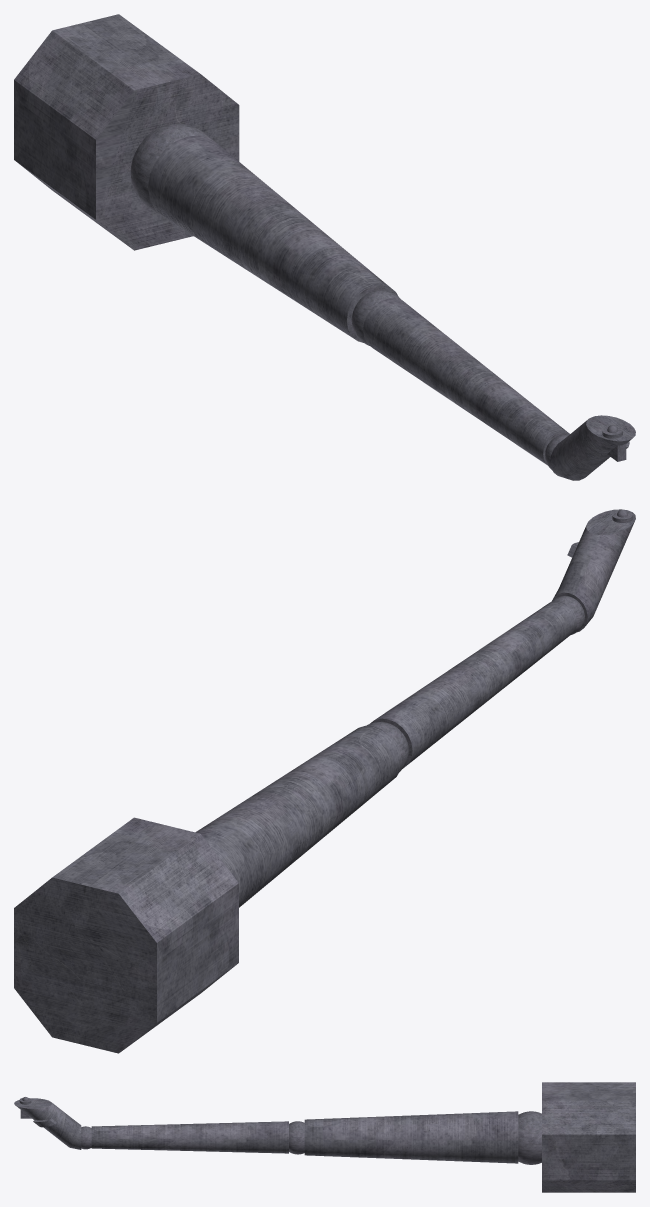
The model's file is ControllerRightArm.fbx.
3 renders of one model, top to bottom at view 1: azimuth 30°, elevation 25°; view 2: azimuth 150°, elevation 25°; view 3: azimuth 270°, elevation 25°, orthographic. The views are drawn at different scales.
Parts seen in each view (by area): view 1: Base, Bicep, Forearm, polySurface5, ShoulderJoint, Elbow; view 2: Base, Bicep, Forearm, polySurface5; view 3: Base, Bicep, Forearm, polySurface5, ShoulderJoint, Elbow, Wrist.
Part boxes in pixels (x1,y1,x2,y2): Base: (14,14,239,250); Bicep: (148,135,398,342); Forearm: (363,298,569,465); polySurface5: (550,415,635,480); ShoulderJoint: (130,123,209,213); Elbow: (351,290,400,345); Base: (14,817,238,1053); Bicep: (195,725,401,907); Forearm: (370,601,576,768); polySurface5: (552,509,635,632); Base: (542,1082,635,1192); Bicep: (304,1111,518,1163); Forearm: (91,1121,288,1153); polySurface5: (14,1098,81,1149); ShoulderJoint: (518,1111,541,1164); Elbow: (289,1121,304,1154); Wrist: (81,1126,91,1149).
Size of the model in its own units: 0.1727 by 0.1846 by 1.13.
